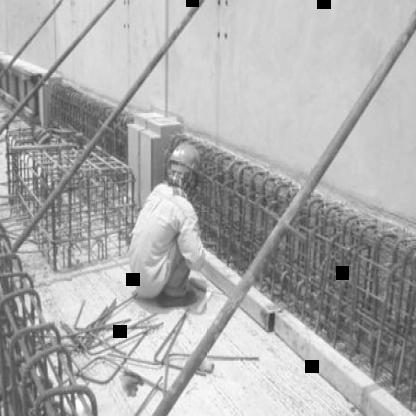helmet: (164, 140, 206, 196)
